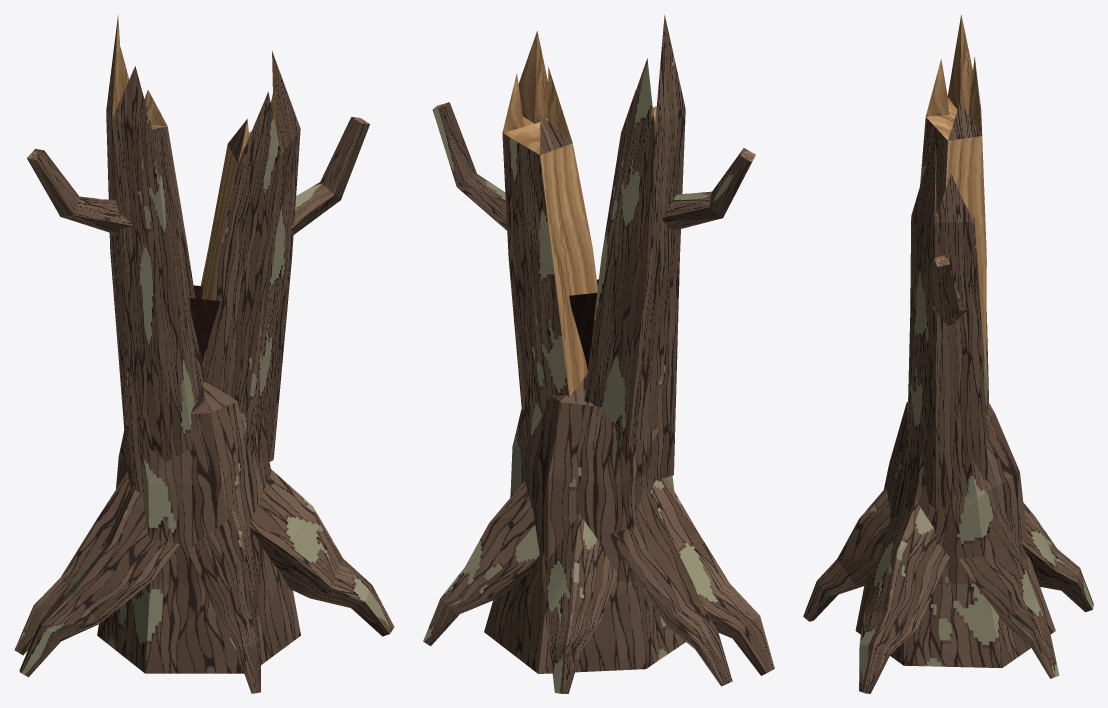
File: SM_TR12_Split.fbx
3 views of the same model, side by side, from view 1: azimuth 30°, elevation 25°; view 2: azimuth 150°, elevation 25°; view 3: azimuth 270°, elevation 25° (orthographic). The views are drawn at different scales.
Parts seen in each view (by area): view 1: TR12_Bark, TR12_Parts; view 2: TR12_Bark, TR12_Parts; view 3: TR12_Bark, TR12_Parts.
Boxes of the visible parts, <box> form: TR12_Bark: <box>14,17,394,693</box>; TR12_Parts: <box>27,14,369,363</box>; TR12_Bark: <box>423,15,774,693</box>; TR12_Parts: <box>433,31,755,396</box>; TR12_Bark: <box>803,60,1093,693</box>; TR12_Parts: <box>925,15,986,379</box>.
Size of the model in its own units: 3.03 by 5.37 by 2.42.
